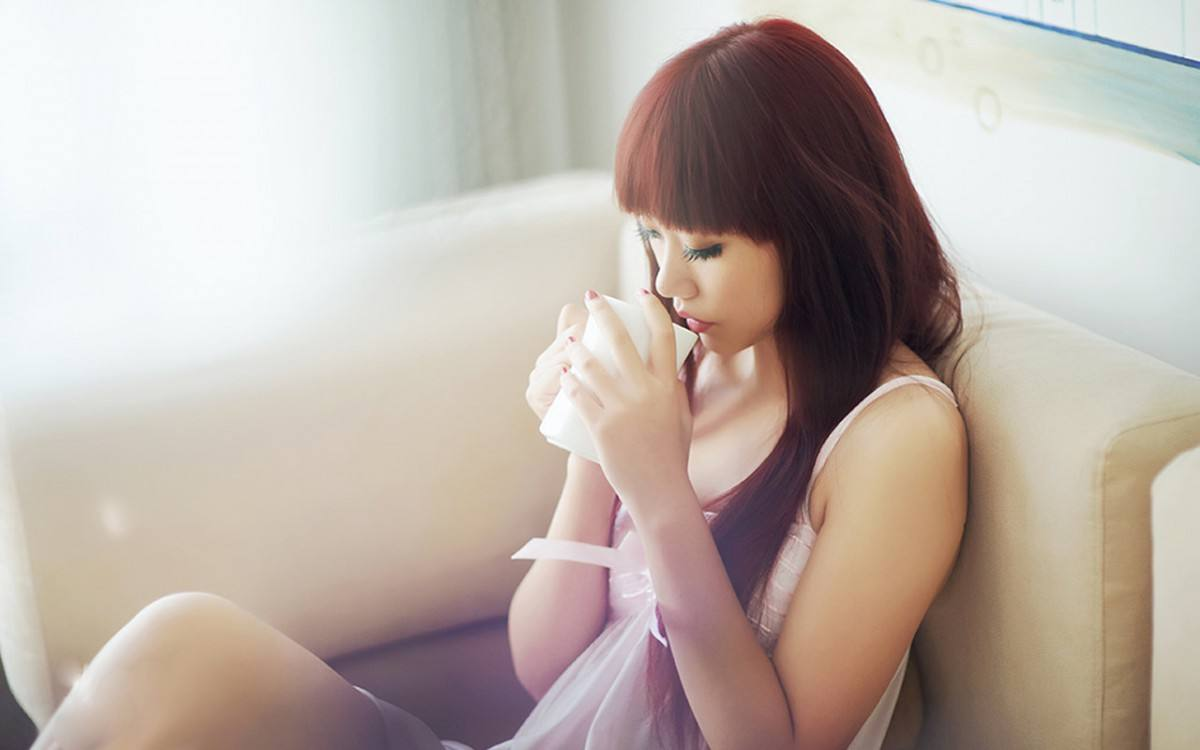person: (405, 58, 1006, 744)
